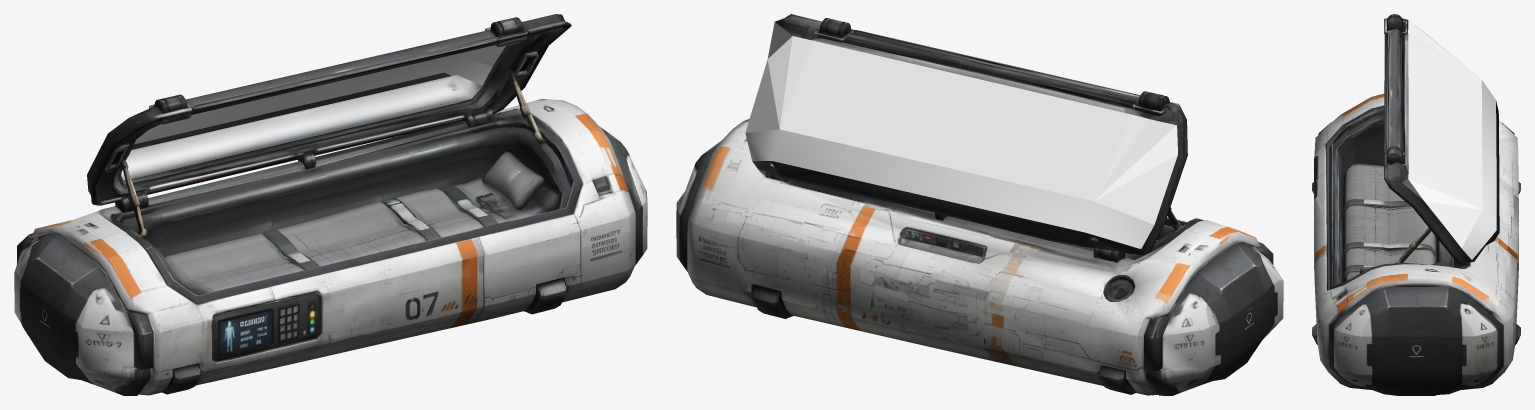
The model's file is stasispod2.glb.
3 views of the same model, side by side, from view 1: azimuth 30°, elevation 25°; view 2: azimuth 150°, elevation 25°; view 3: azimuth 270°, elevation 25° (orthographic). The views are drawn at different scales.
Parts seen in each view (by area): view 1: tripo_node_5c11f901-12fc-4679-86ab-d53e1ec6be2f, tripo_node_5c11f901-12fc-4679-86ab-d53e1ec6be2f.001; view 2: tripo_node_5c11f901-12fc-4679-86ab-d53e1ec6be2f, tripo_node_5c11f901-12fc-4679-86ab-d53e1ec6be2f.001; view 3: tripo_node_5c11f901-12fc-4679-86ab-d53e1ec6be2f, tripo_node_5c11f901-12fc-4679-86ab-d53e1ec6be2f.001.
Part boxes in pixels (x1,y1,x2,y2): tripo_node_5c11f901-12fc-4679-86ab-d53e1ec6be2f: (14, 14, 647, 395); tripo_node_5c11f901-12fc-4679-86ab-d53e1ec6be2f.001: (134, 45, 505, 144); tripo_node_5c11f901-12fc-4679-86ab-d53e1ec6be2f: (676, 14, 1283, 395); tripo_node_5c11f901-12fc-4679-86ab-d53e1ec6be2f.001: (745, 36, 1177, 248); tripo_node_5c11f901-12fc-4679-86ab-d53e1ec6be2f: (1312, 14, 1520, 395); tripo_node_5c11f901-12fc-4679-86ab-d53e1ec6be2f.001: (1408, 20, 1496, 259).
Size of the model in its own units: 0.9995 by 0.4614 by 0.4067.
2 materials, 1 textured.
